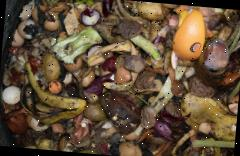organic: (170, 8, 212, 64), (50, 28, 102, 64), (42, 9, 64, 35), (16, 15, 36, 42), (82, 8, 104, 27), (48, 80, 61, 97), (18, 5, 32, 20)
